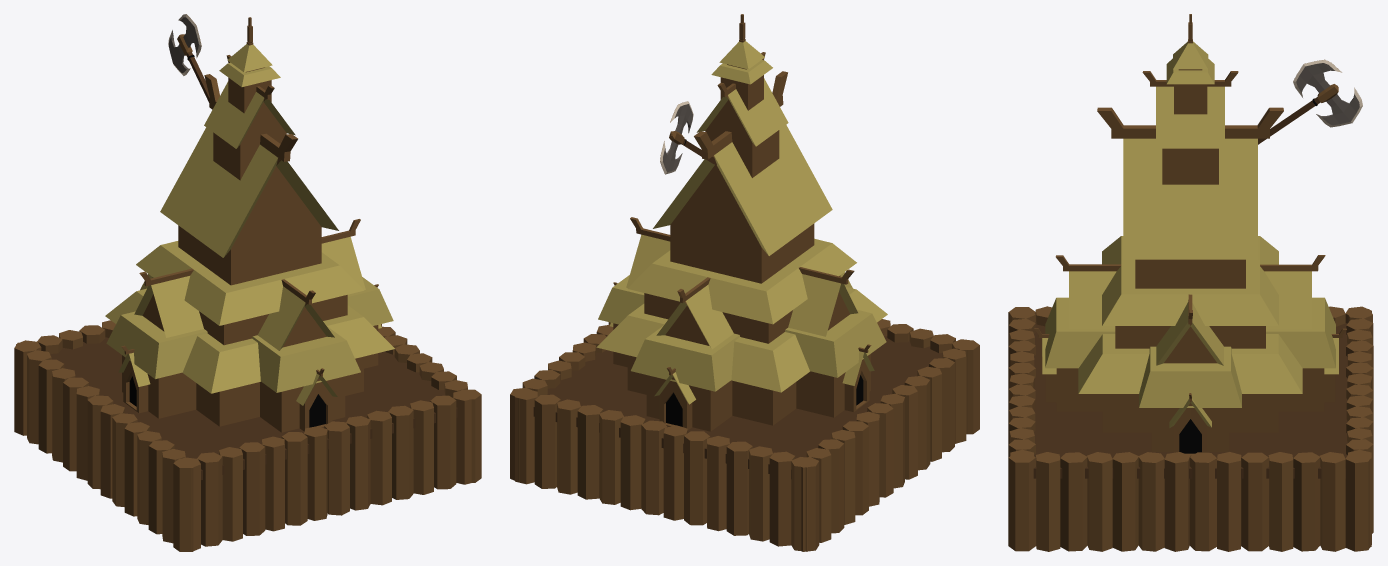
Rendered from BaseHall.glb.
3 renders of one model, left to right at view 1: azimuth 30°, elevation 25°; view 2: azimuth 150°, elevation 25°; view 3: azimuth 270°, elevation 25°, orthographic. The views are drawn at different scales.
Parts seen in each view (by area): view 1: Cylinder.002, Cube.005, Cube.011, Cube, Cube.010, Cube.004, Cube.002, Cube.006, Cube.009, Cube.001, Cube.008, Cube.003 (+1 smaller); view 2: Cylinder.002, Cube.005, Cube.012, Cube, Cube.010, Cube.004, Cube.002, Cube.006, Cube.009, Cube.001, Cube.008, Cube.003 (+1 smaller); view 3: Cylinder.002, Cube.005, Cube.009, Cube, Cube.004, Cube.011, Cube.012, Cube.002, Cube.006, Cube.001, Cube.008, Cube.013 (+1 smaller).
Boxes of the visible parts, x1=… form: Cylinder.002: x1=14, y1=320, x2=481, y2=551; Cube.005: x1=160, y1=74, x2=338, y2=285; Cube.011: x1=252, y1=279, x2=360, y2=432; Cube: x1=50, y1=337, x2=457, y2=479; Cube.010: x1=106, y1=268, x2=207, y2=418; Cube.004: x1=136, y1=241, x2=363, y2=325; Cube.002: x1=105, y1=288, x2=394, y2=393; Cube.006: x1=204, y1=55, x2=295, y2=180; Cube.009: x1=321, y1=219, x2=393, y2=368; Cube.001: x1=196, y1=356, x2=363, y2=426; Cube.008: x1=219, y1=17, x2=280, y2=113; Cube.003: x1=152, y1=277, x2=347, y2=345; Cylinder.002: x1=510, y1=319, x2=979, y2=551; Cube.005: x1=653, y1=71, x2=832, y2=283; Cube.012: x1=631, y1=277, x2=739, y2=431; Cube: x1=533, y1=336, x2=942, y2=478; Cube.010: x1=785, y1=267, x2=886, y2=417; Cube.004: x1=627, y1=238, x2=856, y2=324; Cube.002: x1=596, y1=287, x2=887, y2=392; Cube.006: x1=696, y1=52, x2=788, y2=177; Cube.009: x1=598, y1=217, x2=670, y2=367; Cube.001: x1=627, y1=355, x2=796, y2=425; Cube.008: x1=711, y1=14, x2=772, y2=110; Cube.003: x1=644, y1=275, x2=840, y2=343; Cylinder.002: x1=1008, y1=306, x2=1373, y2=551; Cube.005: x1=1097, y1=107, x2=1283, y2=288; Cube.009: x1=1139, y1=294, x2=1241, y2=456; Cube: x1=1033, y1=322, x2=1347, y2=478; Cube.004: x1=1102, y1=236, x2=1278, y2=325; Cube.011: x1=1034, y1=255, x2=1121, y2=411; Cube.012: x1=1260, y1=255, x2=1346, y2=411; Cube.002: x1=1078, y1=334, x2=1302, y2=393; Cube.006: x1=1142, y1=71, x2=1238, y2=184; Cube.001: x1=1102, y1=394, x2=1278, y2=432; Cube.008: x1=1166, y1=14, x2=1214, y2=114; Cube.013: x1=1258, y1=59, x2=1362, y2=144.
Size of the model in its own units: 2.14 by 2.93 by 2.11.
